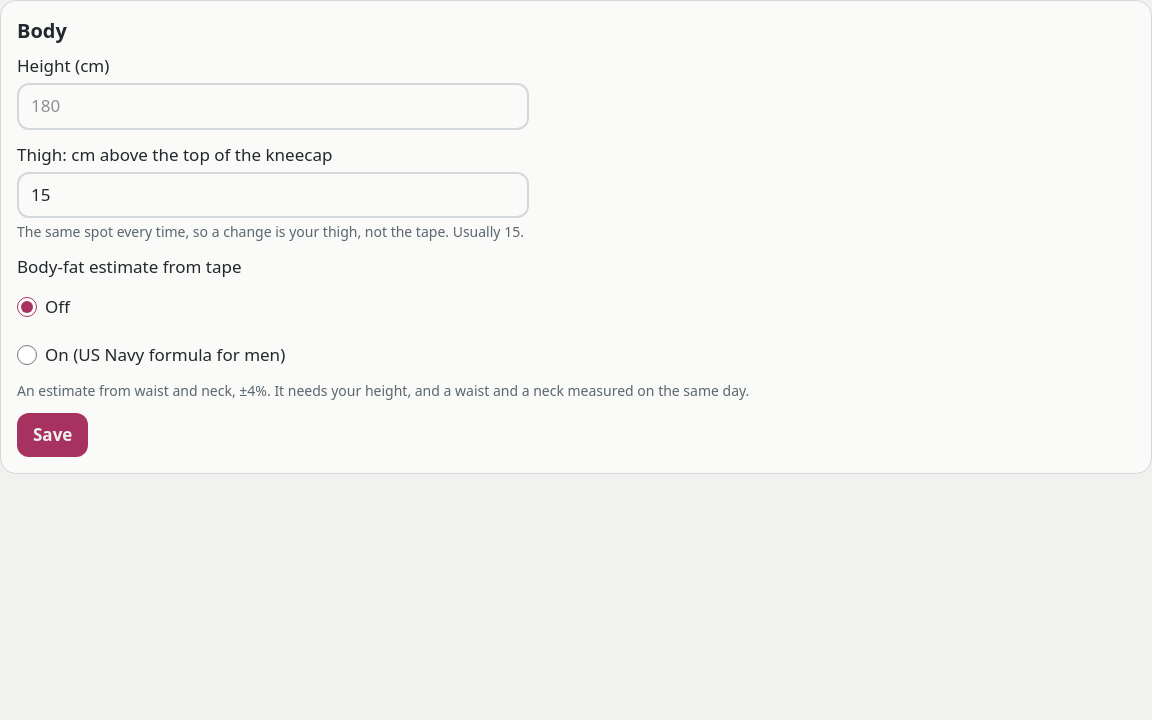
Scenario: turns the estimate on with a height and a thigh landmark
Click the radio button labelled "On (US Navy formula for men)".
click(27, 355)  # box [17,345,37,365]
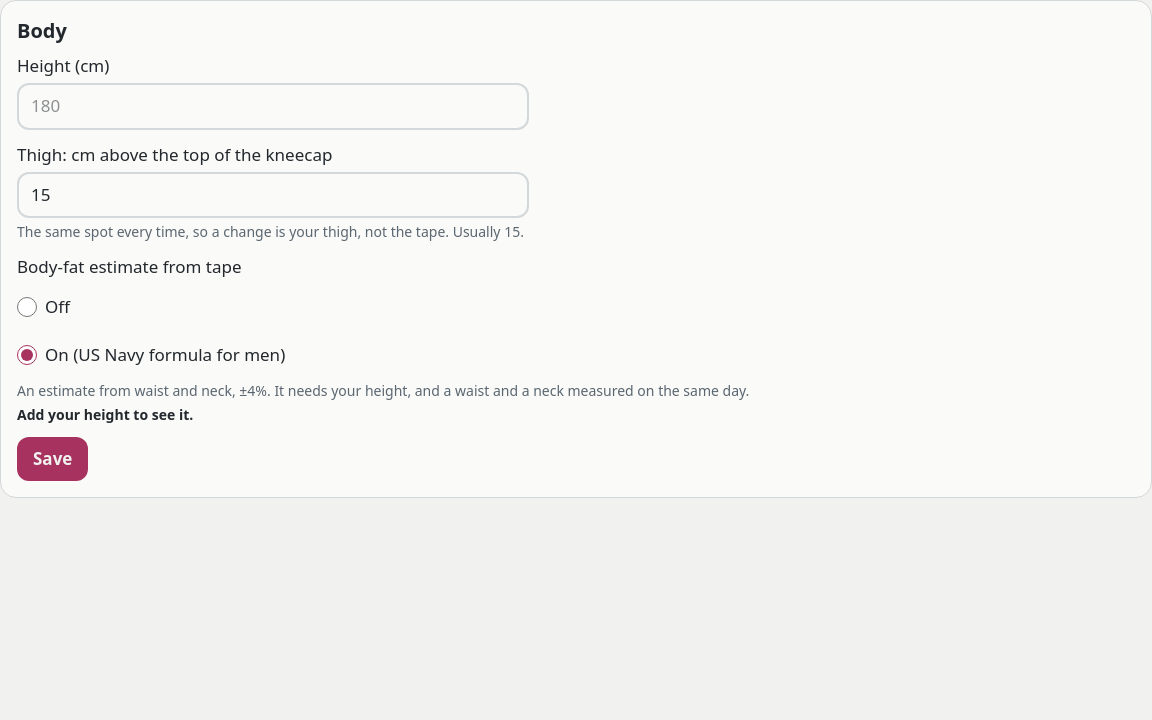
Result: the text "Add your height to see it." is shown at [17,405,193,424]
Type "18x2" into the field labelled "Height (cm)".
click(273, 106); type("18x2")  # box [17,83,529,130]
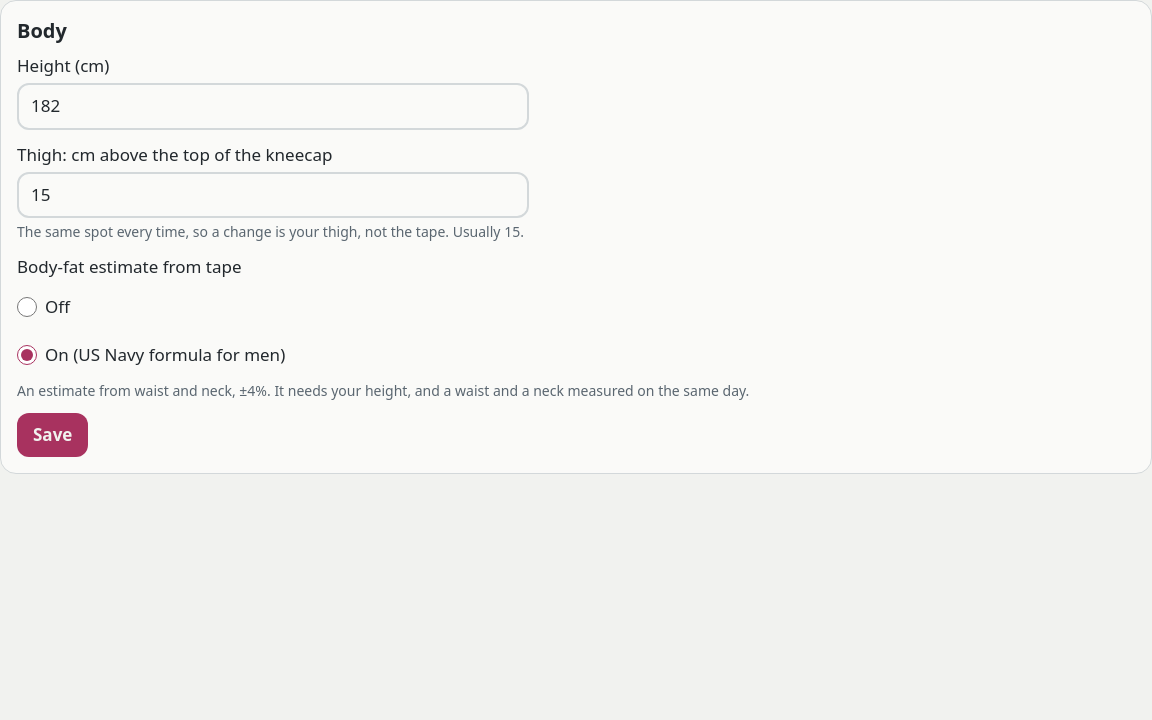
Result: the text "Add your height to see it." is gone
Replace the text in the field labelled "above the top of the kneecap" with "18" at point(273, 195), box [17,172,529,218]
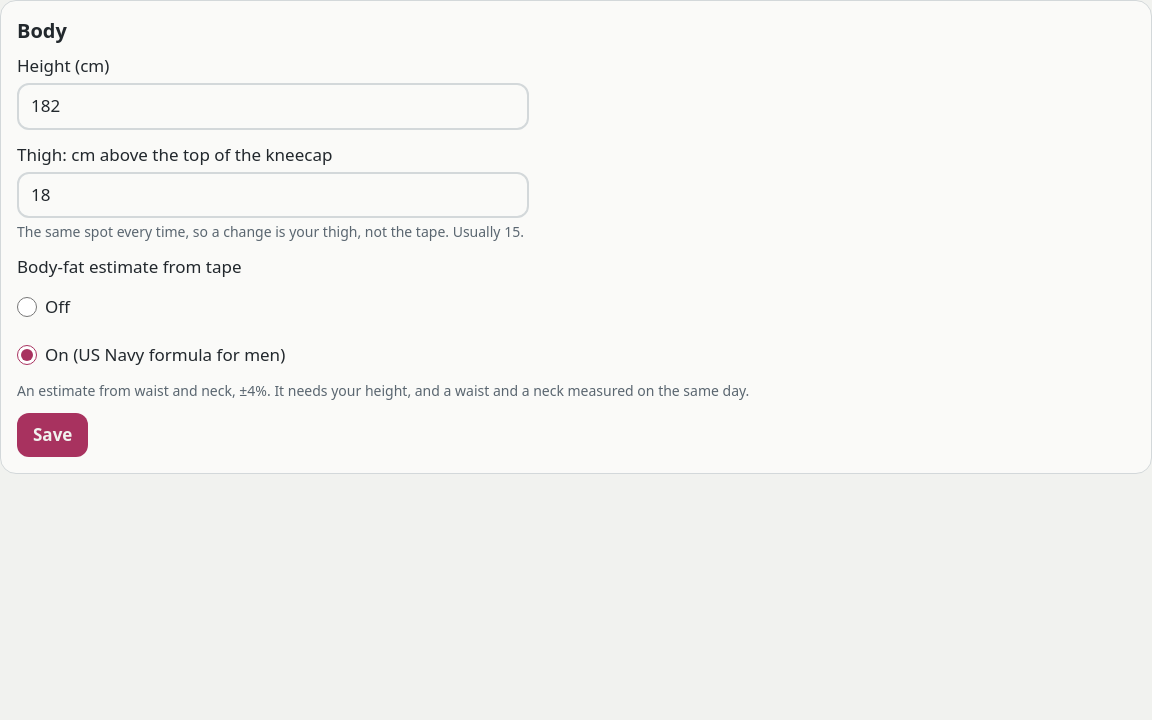
Click the button "Save".
click(53, 435)  # box [17,413,88,457]
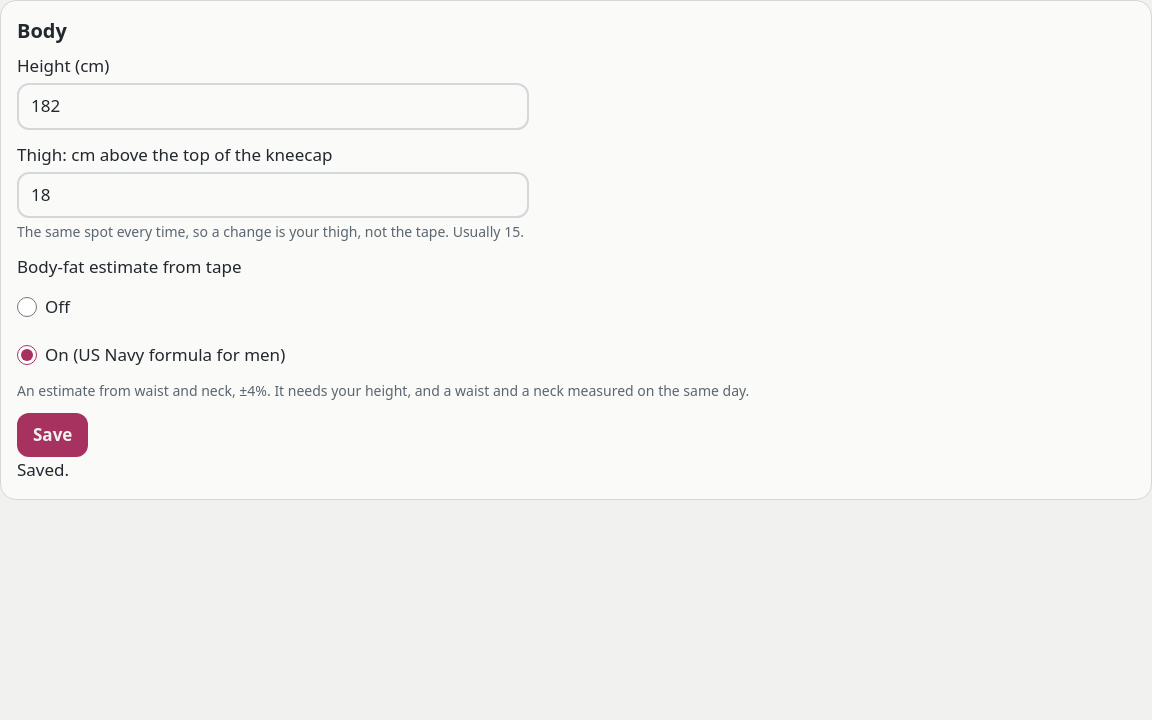
Result: the radio button labelled "On (US Navy formula for men)" is checked at [17,345,37,365]
Result: the text "Saved." is shown at [17,458,69,481]
